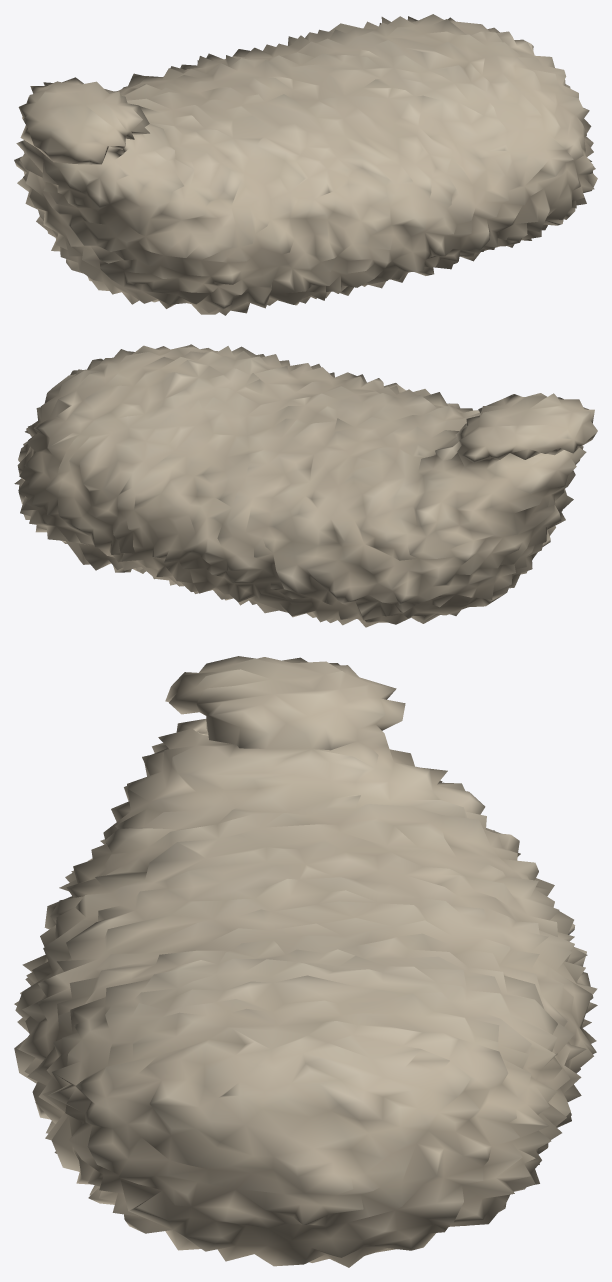
The model's file is wool.glb.
3 views of the same model, one above another, from view 1: azimuth 30°, elevation 25°; view 2: azimuth 150°, elevation 25°; view 3: azimuth 270°, elevation 25° (orthographic). The views are drawn at different scales.
Parts seen in each view (by area): view 1: wool; view 2: wool; view 3: wool.
Part boxes in pixels (<box>): wool: <box>14,14,597,315</box>; wool: <box>14,344,597,627</box>; wool: <box>14,656,597,1267</box>.
Bounding box in the file's own units: 0.245 × 0.094 × 0.16.
